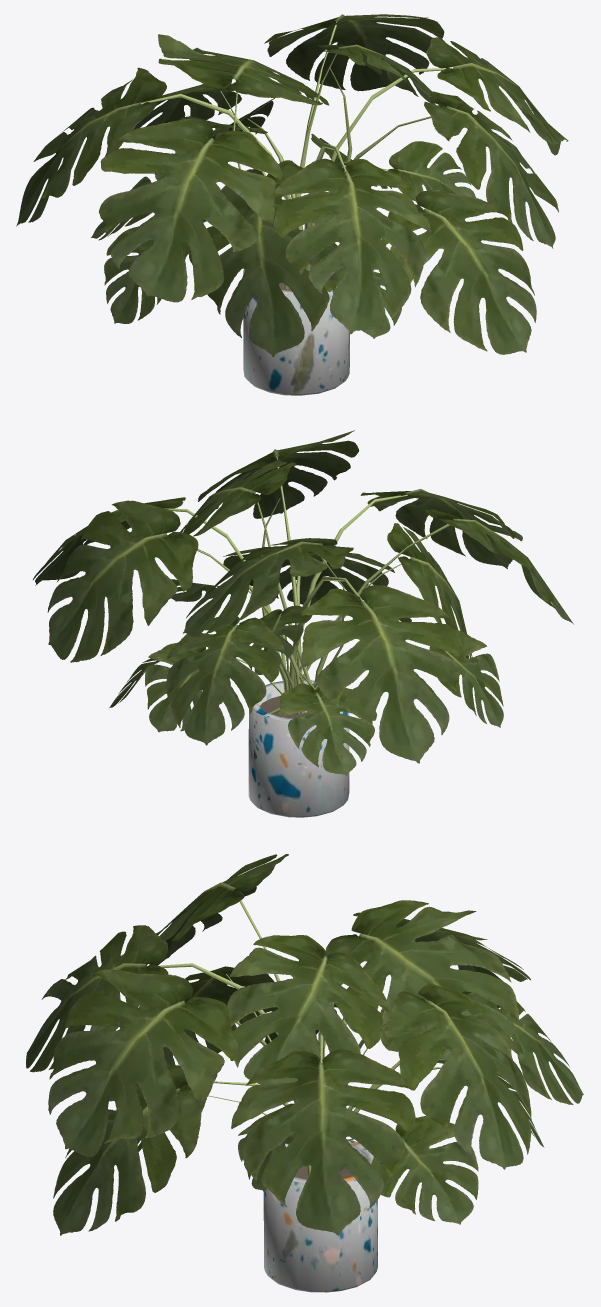
Rendered from monstera.gltf.
3 renders of one model, top to bottom at view 1: azimuth 30°, elevation 25°; view 2: azimuth 150°, elevation 25°; view 3: azimuth 270°, elevation 25°, orthographic. The views are drawn at different scales.
Visible parts, largest first — view 1: body; view 2: body; view 3: body.
Boxes of the visible parts, x1=… form: body: x1=16, y1=14, x2=568, y2=395; body: x1=33, y1=430, x2=573, y2=817; body: x1=26, y1=854, x2=583, y2=1292.
Size of the model in its own units: 1 by 0.6065 by 0.8808.
2 materials, 2 textured.
